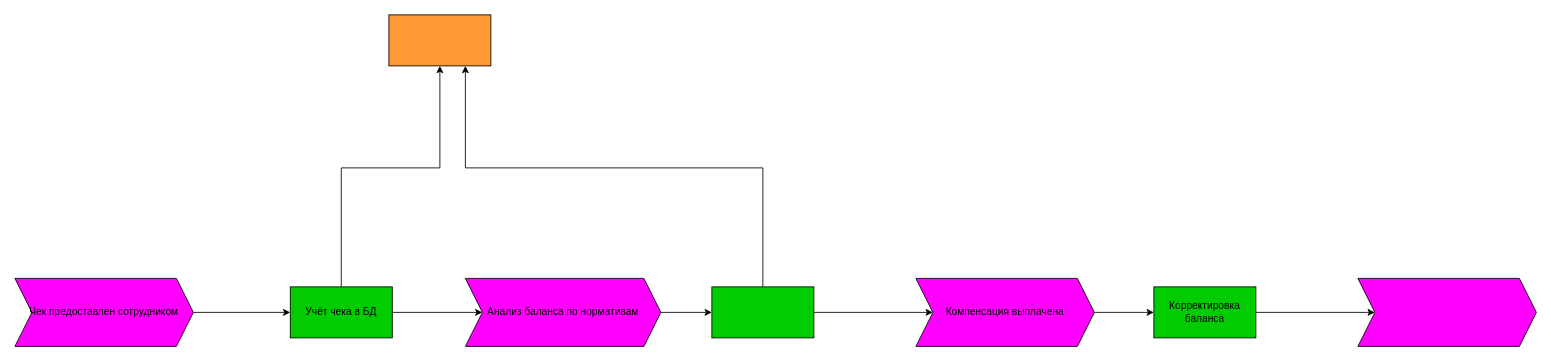
Some shapes in this 1551 by 361 pixel diagram are drawn without their labels. The box of each missing label's shape, as (x1, y1, x2, y2) in pixels:
Баланс скорректирован: (1357, 278, 1536, 346)
Бухгалтерия: (388, 14, 491, 66)
Решение по выплате компенсации: (711, 286, 814, 338)
